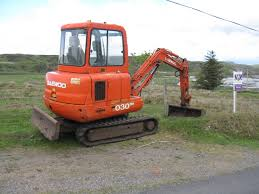excavator: (31, 16, 203, 147)
